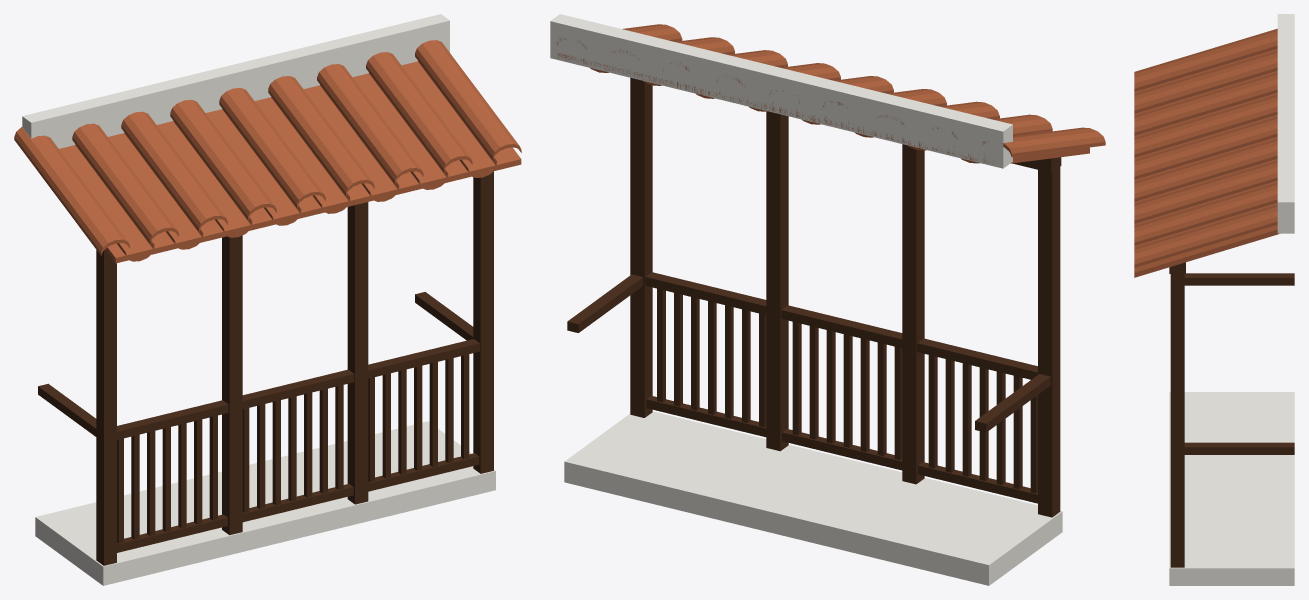
The model's file is wood-balcony.glb.
The picture shows the model from 3 angles, left to right: view 1: azimuth 30°, elevation 25°; view 2: azimuth 150°, elevation 25°; view 3: azimuth 270°, elevation 25°; orthographic projection. The views are drawn at different scales.
Parts seen in each view (by area): view 1: wood-balcony-tile, wood-balcony-timber, wood-balcony-plaster; view 2: wood-balcony-timber, wood-balcony-plaster, wood-balcony-tile; view 3: wood-balcony-tile, wood-balcony-plaster, wood-balcony-timber.
Boxes of the visible parts, x1=… form: wood-balcony-tile: x1=14, y1=40, x2=521, y2=263; wood-balcony-timber: x1=38, y1=171, x2=493, y2=565; wood-balcony-plaster: x1=22, y1=14, x2=495, y2=585; wood-balcony-timber: x1=567, y1=78, x2=1061, y2=517; wood-balcony-plaster: x1=550, y1=14, x2=1062, y2=585; wood-balcony-tile: x1=557, y1=24, x2=1105, y2=164; wood-balcony-tile: x1=1134, y1=28, x2=1279, y2=277; wood-balcony-plaster: x1=1169, y1=14, x2=1294, y2=585; wood-balcony-timber: x1=1169, y1=262, x2=1294, y2=567.
Bounding box in the file's own units: 3.26 × 3.09 × 1.15.
